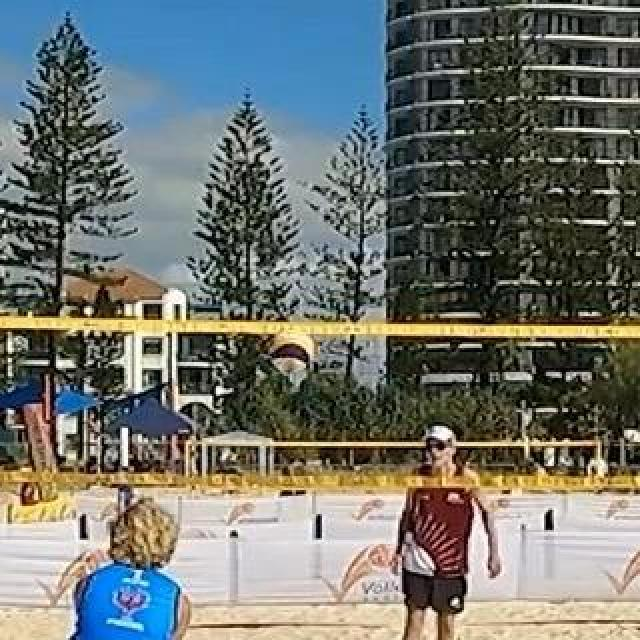volleyball: (269, 329, 315, 375)
